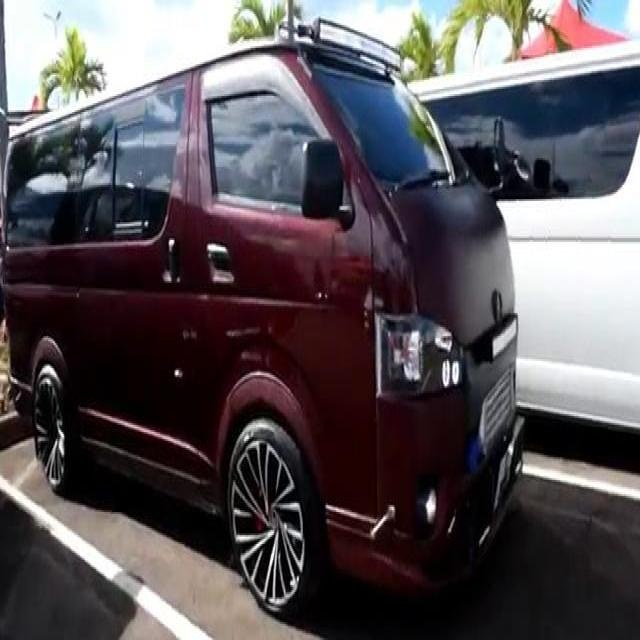Van: (7, 23, 528, 576)
